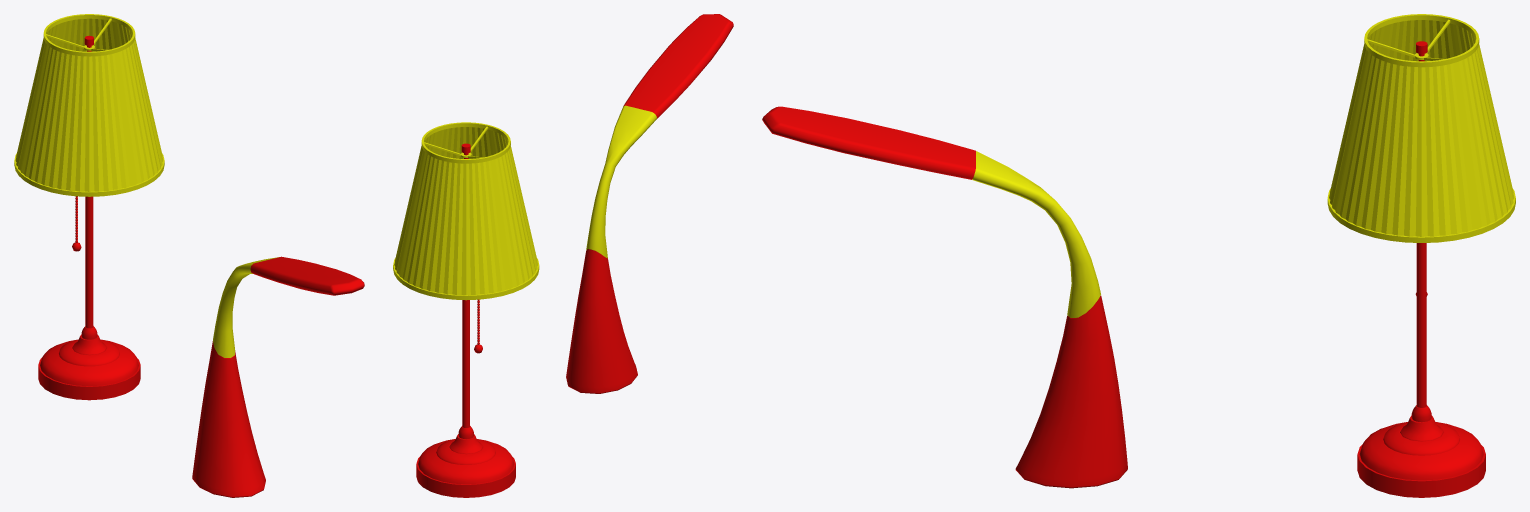
File: RoboTHOR_desk_lamps_grp.fbx
3 renders of one model, left to right at view 1: azimuth 30°, elevation 25°; view 2: azimuth 150°, elevation 25°; view 3: azimuth 270°, elevation 25°, orthographic. The views are drawn at different scales.
Parts seen in each view (by area): view 1: robothor_desk_lamp_arstid, robothor_desk_lamp_ai2; view 2: robothor_desk_lamp_arstid, robothor_desk_lamp_ai2; view 3: robothor_desk_lamp_arstid, robothor_desk_lamp_ai2.
Boxes of the visible parts, left/top/right/bottom form: robothor_desk_lamp_arstid: left=14, top=14, right=164, bottom=400; robothor_desk_lamp_ai2: left=192, top=256, right=364, bottom=497; robothor_desk_lamp_arstid: left=393, top=122, right=539, bottom=497; robothor_desk_lamp_ai2: left=566, top=14, right=733, bottom=393; robothor_desk_lamp_arstid: left=1327, top=14, right=1515, bottom=497; robothor_desk_lamp_ai2: left=762, top=106, right=1127, bottom=488.
Size of the model in its own units: 21.49 by 54.48 by 86.04.
